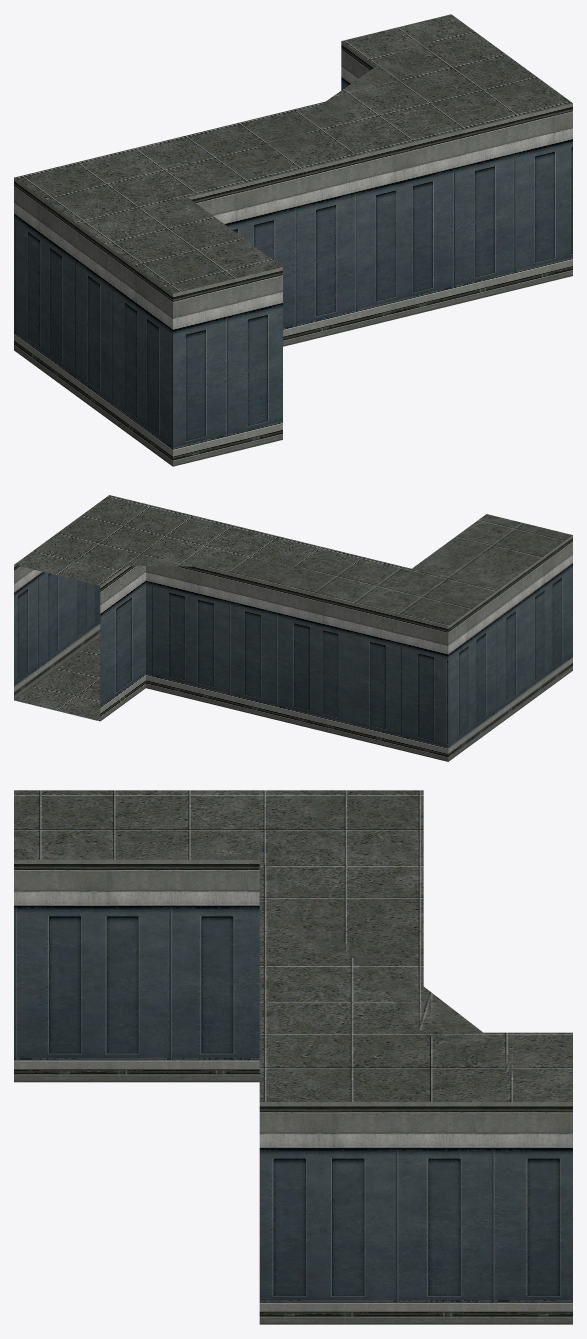
Rendered from thm_corl_imprv_building_block_64x32_s02_r4_spawn4_mesh_r4.fbx.
3 renders of one model, top to bottom at view 1: azimuth 30°, elevation 25°; view 2: azimuth 150°, elevation 25°; view 3: azimuth 270°, elevation 25°, orthographic. The views are drawn at different scales.
Visible parts, largest first — view 1: mesh_node; view 2: mesh_node; view 3: mesh_node.
Boxes of the visible parts, left/top/right/bottom form: mesh_node: left=14, top=14, right=572, bottom=466; mesh_node: left=14, top=495, right=572, bottom=761; mesh_node: left=14, top=790, right=572, bottom=1324.
Bounding box in the file's own units: 9 × 3 × 6.83.
